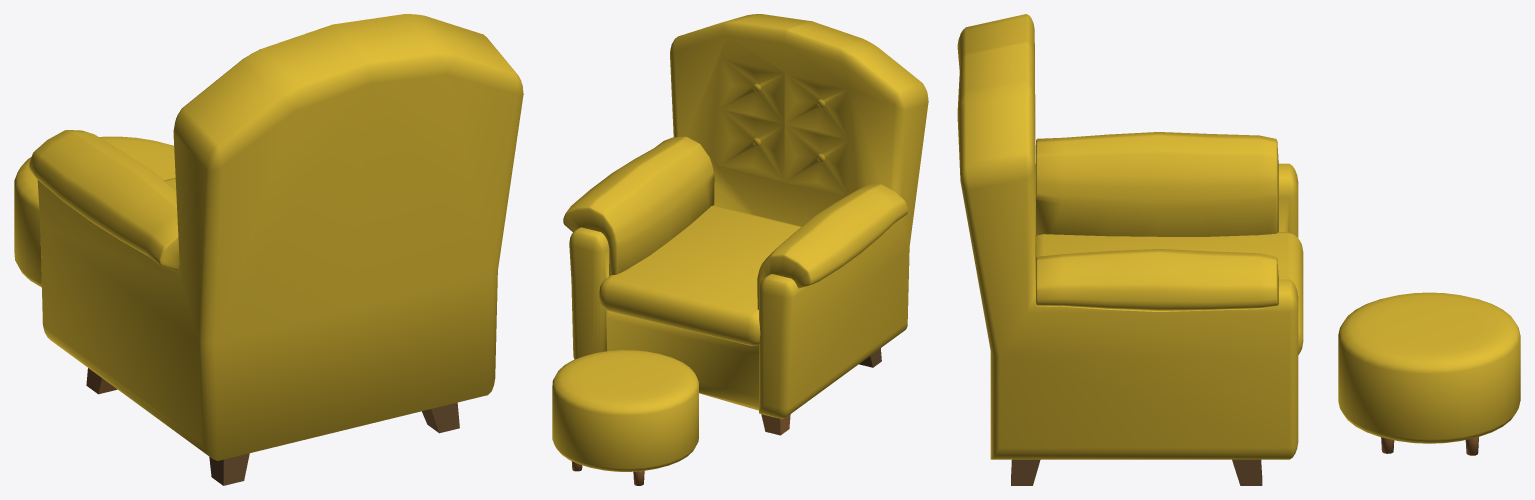
Rendered from armchair.fbx.
3 views of the same model, side by side, from view 1: azimuth 30°, elevation 25°; view 2: azimuth 150°, elevation 25°; view 3: azimuth 270°, elevation 25° (orthographic). The views are drawn at different scales.
Parts seen in each view (by area): view 1: Armchair, Ottoman, Armchair_leg2, Armchair_leg3; view 2: Armchair, Ottoman, Armchair_cushion, Armchair_leg1; view 3: Armchair, Ottoman, Armchair_cushion, Armchair_leg4, Armchair_leg3.
Boxes of the visible parts, box(x1,y1,x2,y2) form: Armchair: box(29, 14, 523, 460); Ottoman: box(14, 136, 175, 287); Armchair_leg2: box(209, 453, 249, 485); Armchair_leg3: box(422, 402, 459, 433); Armchair: box(563, 14, 928, 418); Ottoman: box(552, 350, 698, 471); Armchair_cushion: box(599, 205, 801, 345); Armchair_leg1: box(761, 414, 790, 435); Armchair: box(957, 14, 1298, 459); Ottoman: box(1338, 292, 1520, 443); Armchair_cushion: box(1035, 232, 1303, 354); Armchair_leg4: box(1232, 459, 1262, 485); Armchair_leg3: box(1011, 459, 1040, 485).
Size of the model in its own units: 1.01 by 1.19 by 1.54.
